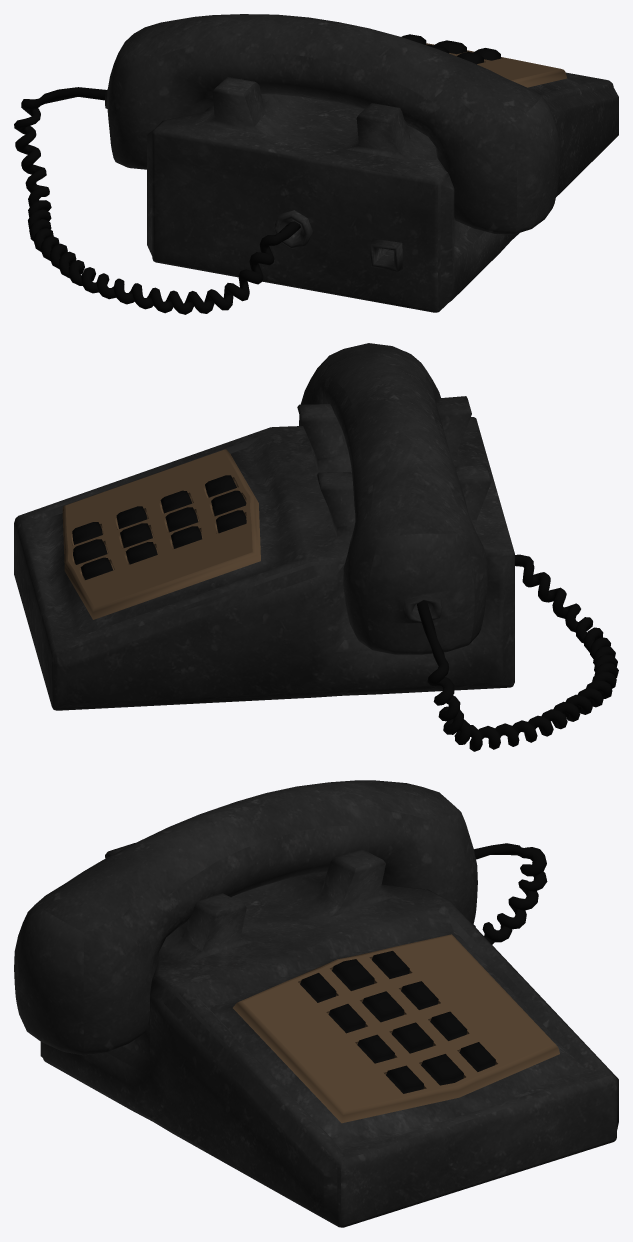
Rendered from dial_phone.glb.
The picture shows the model from 3 angles, top to bottom: view 1: azimuth 30°, elevation 25°; view 2: azimuth 150°, elevation 25°; view 3: azimuth 270°, elevation 25°; orthographic projection. The views are drawn at different scales.
Parts seen in each view (by area): view 1: DialPhone; view 2: DialPhone; view 3: DialPhone.
Boxes of the visible parts, bbox=[...] form: DialPhone: bbox=[14, 14, 618, 314]; DialPhone: bbox=[14, 343, 618, 751]; DialPhone: bbox=[14, 780, 618, 1227].
Bounding box in the file's own units: 0.4628 × 0.183 × 0.3924.
Materials: 4 (1 with a texture image).
